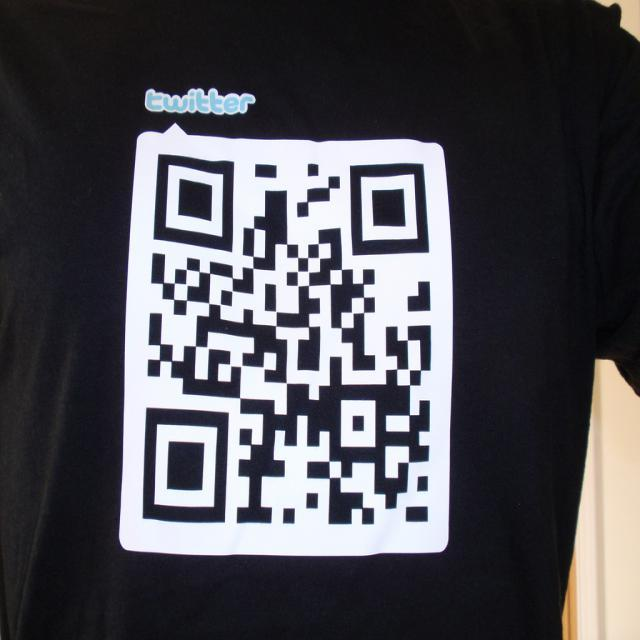qr_code: (142, 154, 428, 525)
